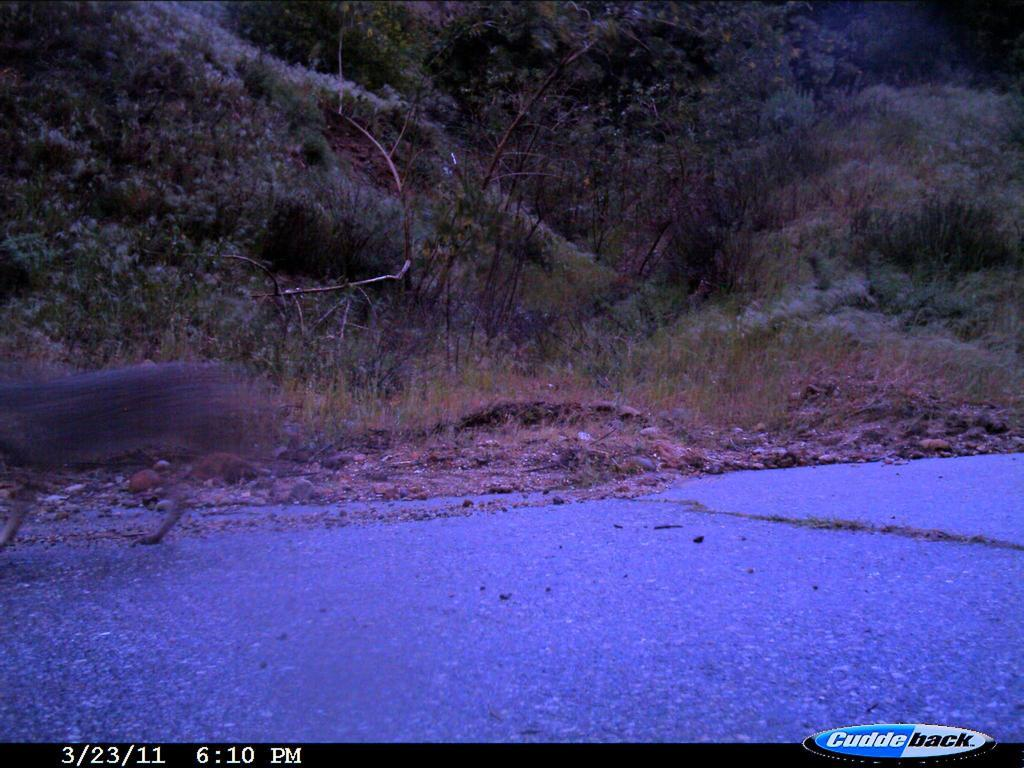coyote: (1, 340, 299, 550)
